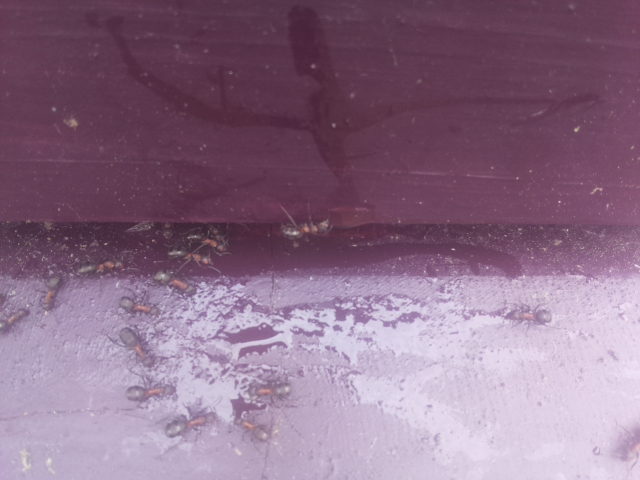ant: (111, 318, 161, 376), (272, 212, 340, 242), (158, 409, 223, 440), (229, 411, 276, 446), (148, 265, 197, 298), (119, 381, 180, 405), (241, 379, 296, 405), (37, 268, 66, 316), (165, 244, 216, 269), (507, 305, 557, 327), (120, 292, 162, 318), (0, 304, 30, 339), (74, 259, 126, 274)
